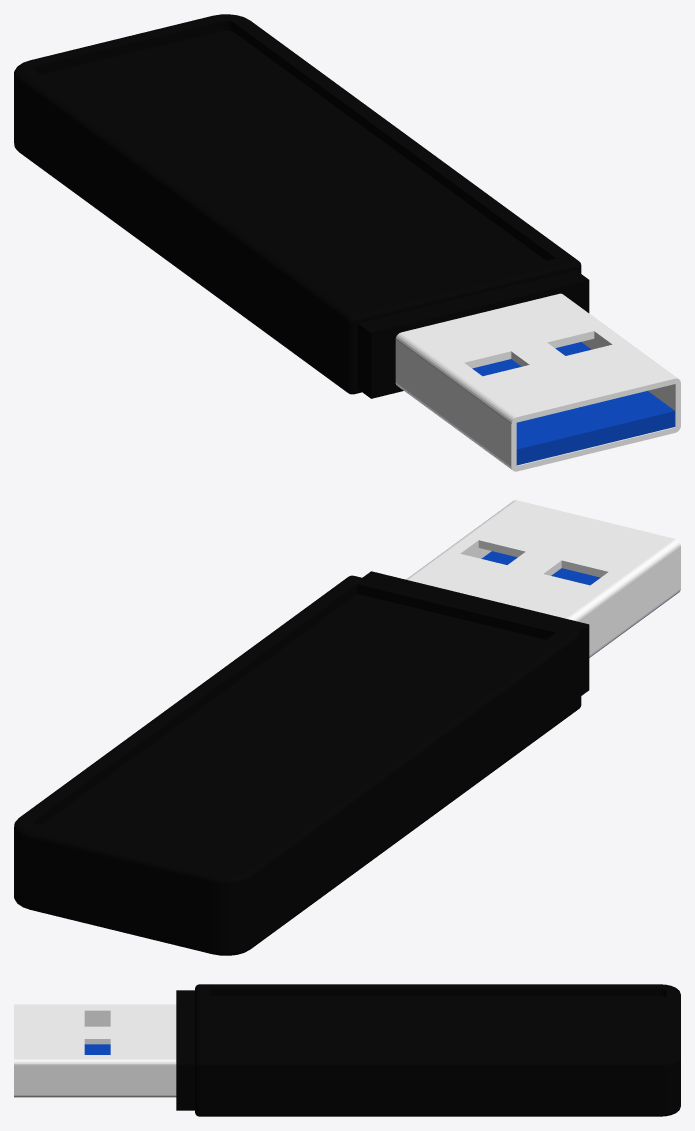
The model's file is flash drive.obj.
3 views of the same model, one above another, from view 1: azimuth 30°, elevation 25°; view 2: azimuth 150°, elevation 25°; view 3: azimuth 270°, elevation 25° (orthographic). The views are drawn at different scales.
Visible parts, largest first — view 1: Text.001_Text.001_Material.001, Text.001_Text.001_Material.002, Text.001_Text.001_Material.004; view 2: Text.001_Text.001_Material.001, Text.001_Text.001_Material.002, Text.001_Text.001_Material.004; view 3: Text.001_Text.001_Material.001, Text.001_Text.001_Material.002, Text.001_Text.001_Material.004.
Boxes of the visible parts, x1,y1,x2,y2 form: Text.001_Text.001_Material.001: (14,14,589,398); Text.001_Text.001_Material.002: (395,293,680,471); Text.001_Text.001_Material.004: (397,342,674,468); Text.001_Text.001_Material.001: (14,571,589,955); Text.001_Text.001_Material.002: (406,500,680,657); Text.001_Text.001_Material.004: (481,551,674,657); Text.001_Text.001_Material.001: (176,984,680,1116); Text.001_Text.001_Material.002: (14,1004,176,1097); Text.001_Text.001_Material.004: (84,1044,110,1054).
Bounding box in the file's own units: 1.05 × 0.3407 × 3.72.
